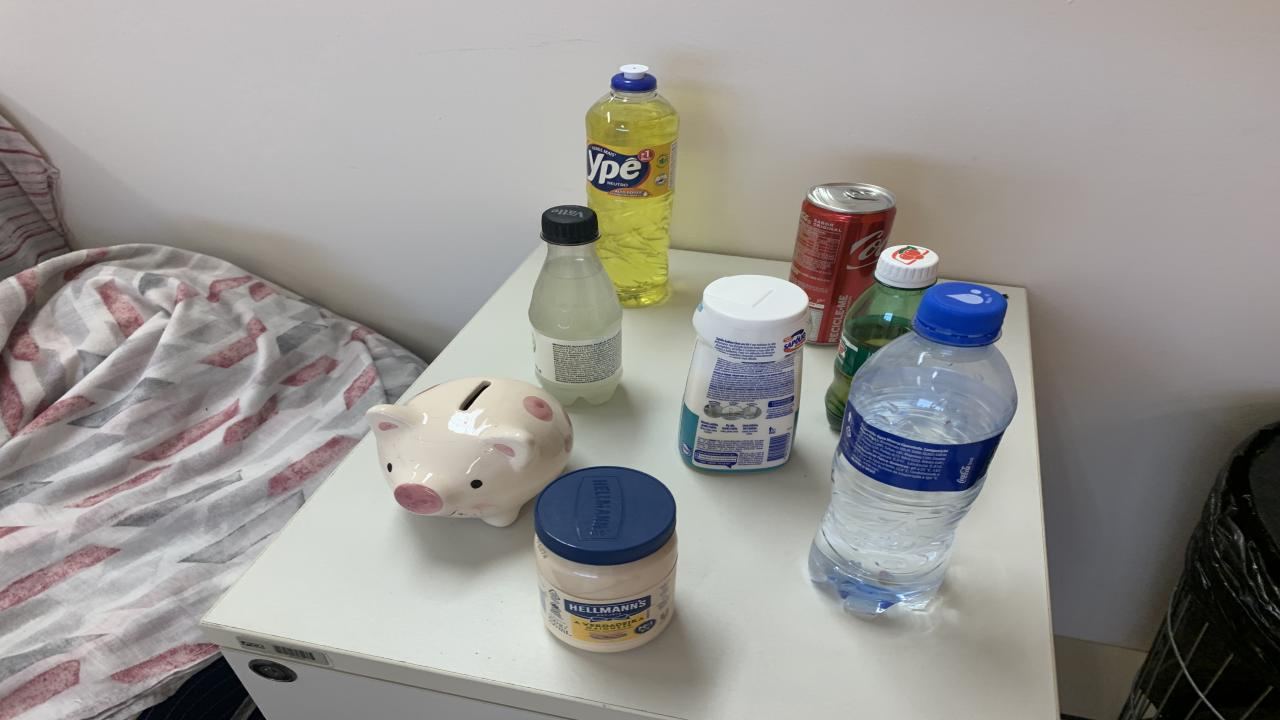Cleaner-Cleanup_Items: (680, 276, 810, 472)
Coke-Drinks: (790, 182, 898, 345)
Detergent-Cleanup_Items: (585, 64, 680, 306)
Guarana-Drinks: (825, 244, 938, 429)
Mayonnaise-Pantry_Items: (535, 467, 678, 652)
Pig_Safe-Miscellaneous: (368, 377, 572, 527)
Soda-Drinks: (528, 204, 622, 405)
Water_Bottle-Drinks: (810, 281, 1018, 613)
